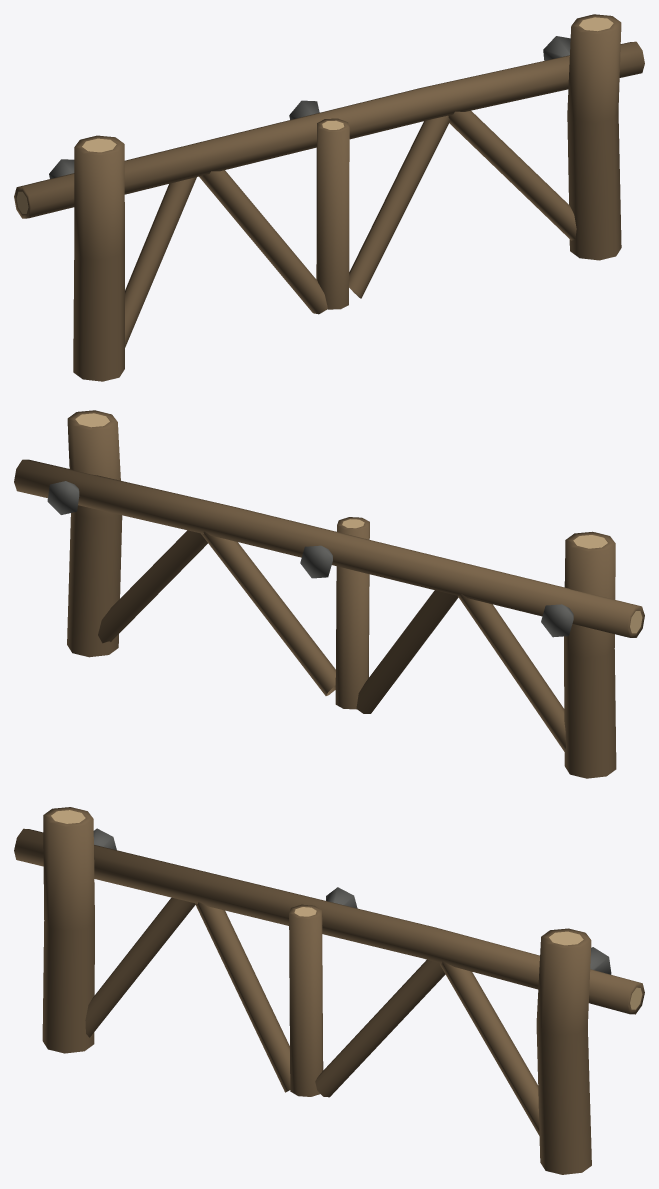
Rendered from rpgpp_ag_fence_02d_2m.fbx.
3 views of the same model, one above another, from view 1: azimuth 30°, elevation 25°; view 2: azimuth 150°, elevation 25°; view 3: azimuth 330°, elevation 25° (orthographic).
Parts seen in each view (by area): view 1: rpgpp_ag_fence_02d_2m; view 2: rpgpp_ag_fence_02d_2m; view 3: rpgpp_ag_fence_02d_2m.
Part boxes in pixels (left/top/right/bottom): rpgpp_ag_fence_02d_2m: left=14, top=14, right=644, bottom=381; rpgpp_ag_fence_02d_2m: left=14, top=410, right=644, bottom=778; rpgpp_ag_fence_02d_2m: left=14, top=807, right=644, bottom=1174.
Bounding box in the file's own units: 4.39 × 1.54 × 0.5822.
